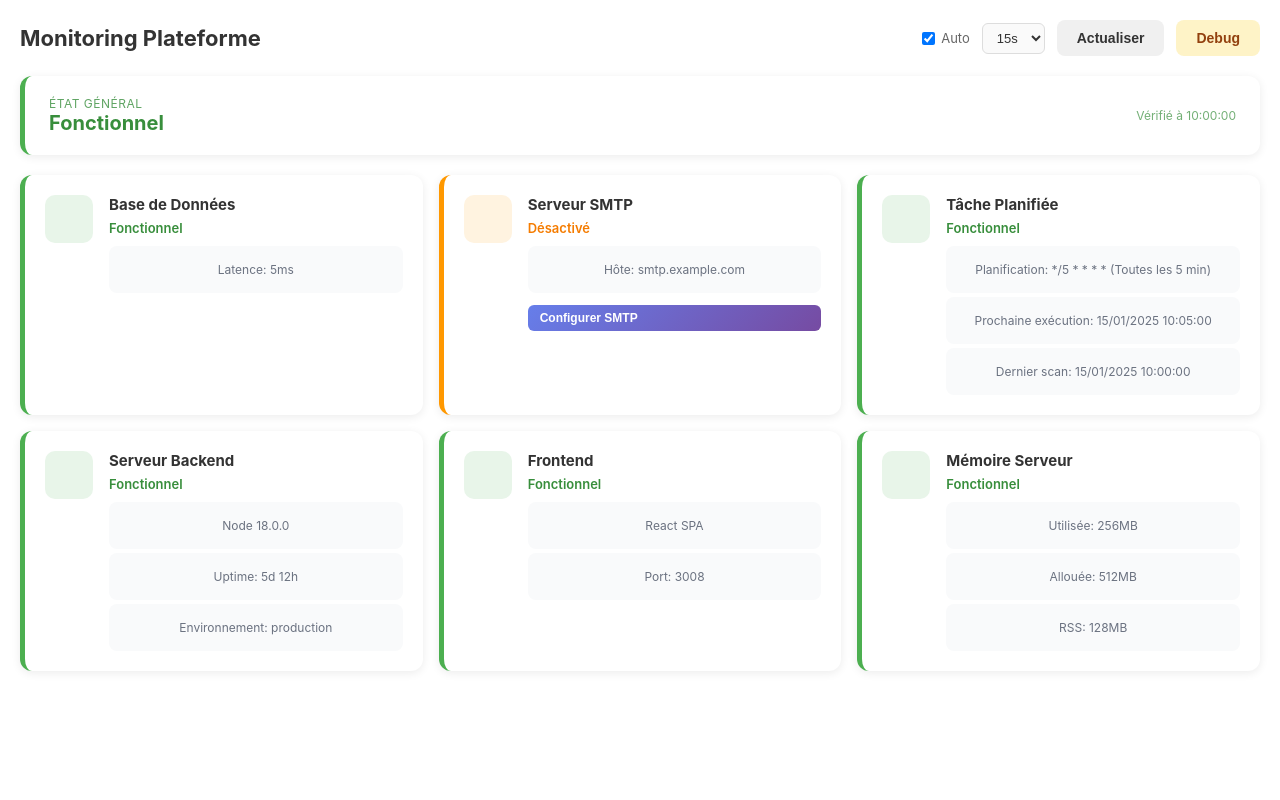
Test: Monitor › debug section: shows loading state on toggle
The image size is (1280, 800).
Expected: the heading "Monitoring Plateforme" is shown, left=20, top=25, right=261, bottom=51
Click the button "Debug". click: (1218, 38)
box: left=1176, top=20, right=1260, bottom=56
(page scrolled)
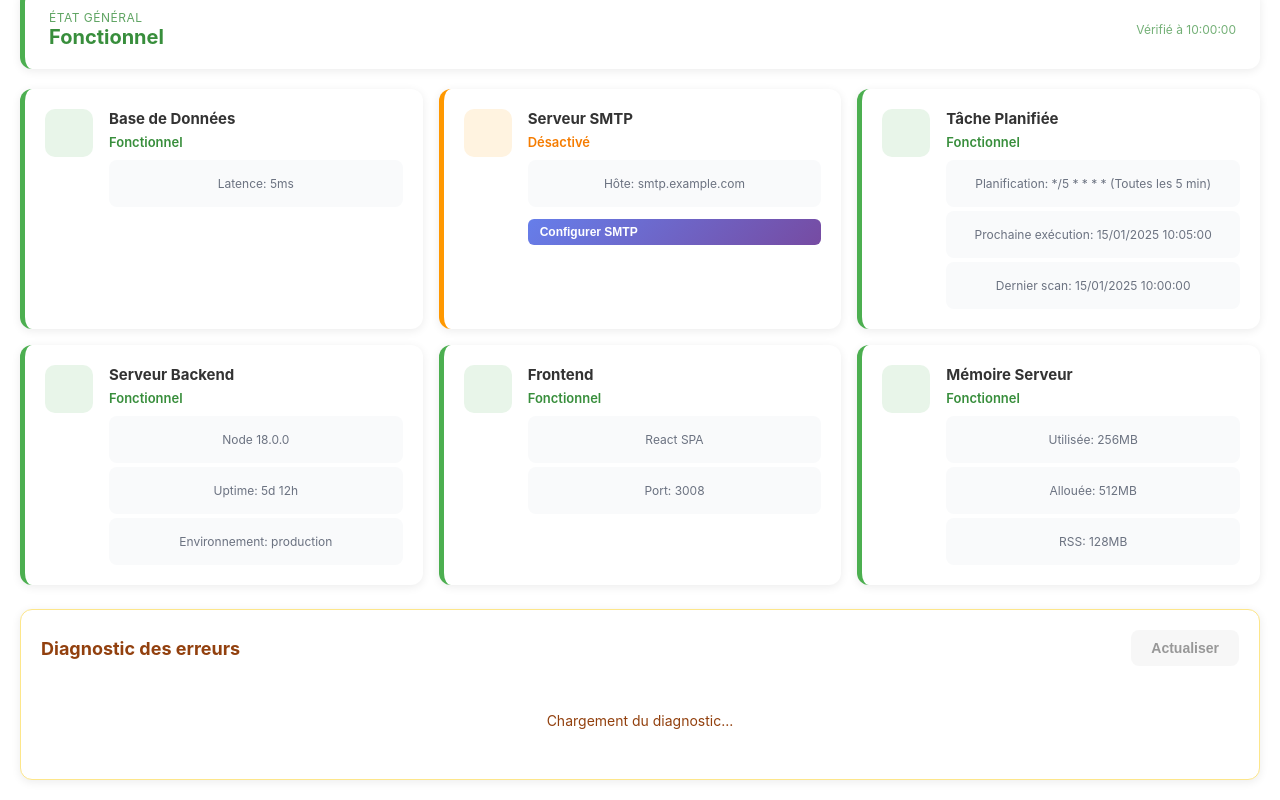
Expected: the text "Chargement du diagnostic..." is shown, left=547, top=712, right=733, bottom=729
